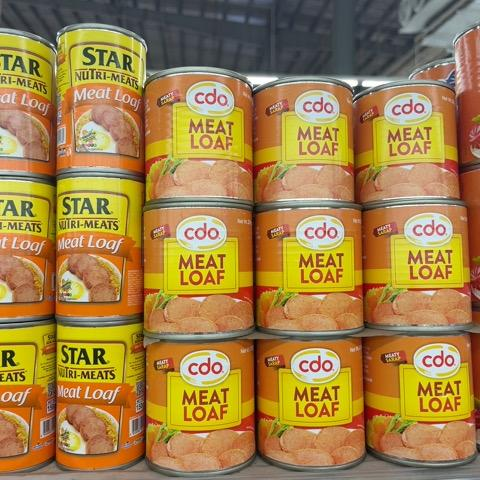canned-goods: (361, 321, 478, 472), (140, 197, 261, 342), (137, 65, 257, 210), (142, 332, 258, 477), (358, 195, 479, 333), (252, 203, 370, 338), (256, 331, 367, 473), (53, 22, 153, 178), (248, 71, 362, 207), (57, 314, 147, 479), (53, 172, 147, 327), (355, 79, 461, 209), (0, 25, 66, 183), (0, 316, 60, 479), (0, 174, 59, 329)
